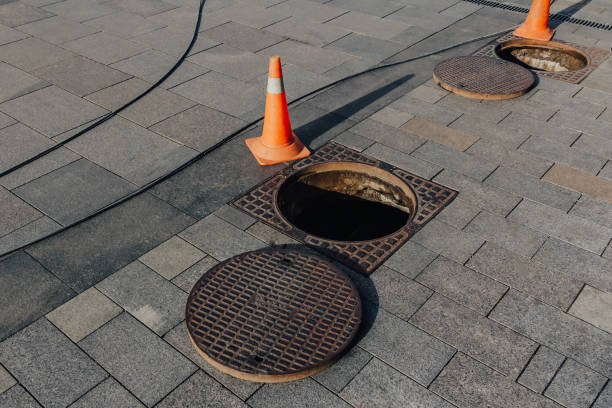open_manhole: (274, 153, 423, 243), (506, 30, 589, 78)
